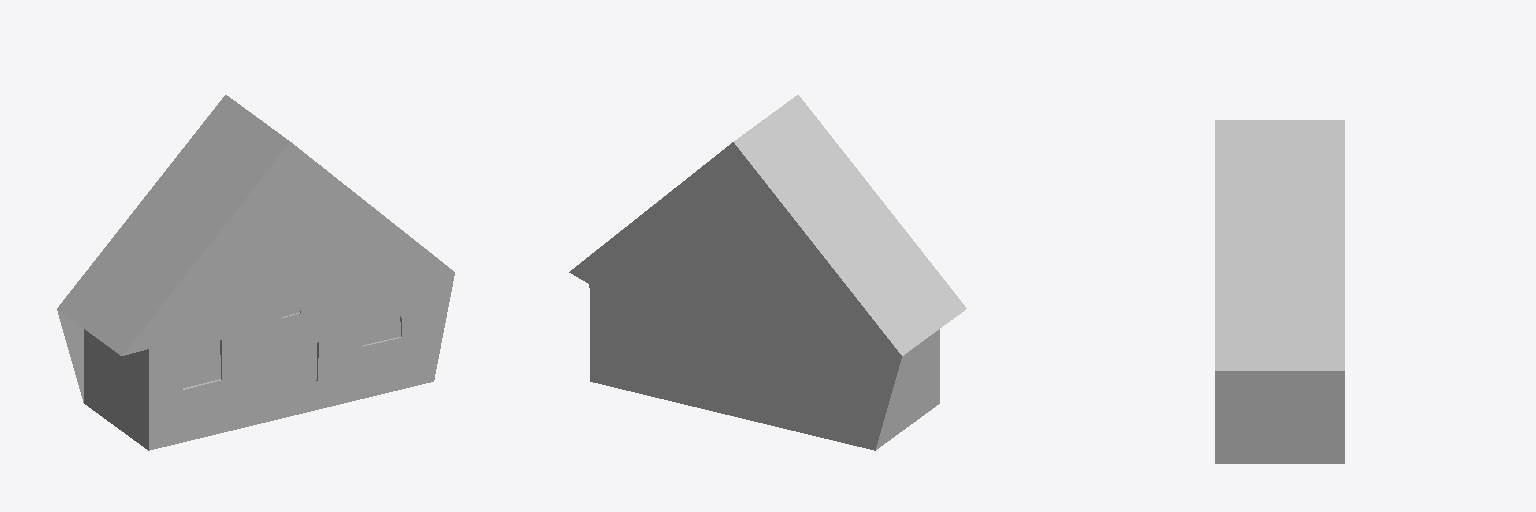
File: house.obj
3 views of the same model, side by side, from view 1: azimuth 30°, elevation 25°; view 2: azimuth 150°, elevation 25°; view 3: azimuth 270°, elevation 25° (orthographic).
Visible parts, largest first — view 1: Plane; view 2: Plane; view 3: Plane.
Part boxes in pixels (left/top/right/bottom): Plane: left=57, top=95, right=454, bottom=450; Plane: left=569, top=95, right=966, bottom=450; Plane: left=1215, top=120, right=1344, bottom=463.
Bounding box in the file's own units: 1.96 × 1.54 × 0.66.